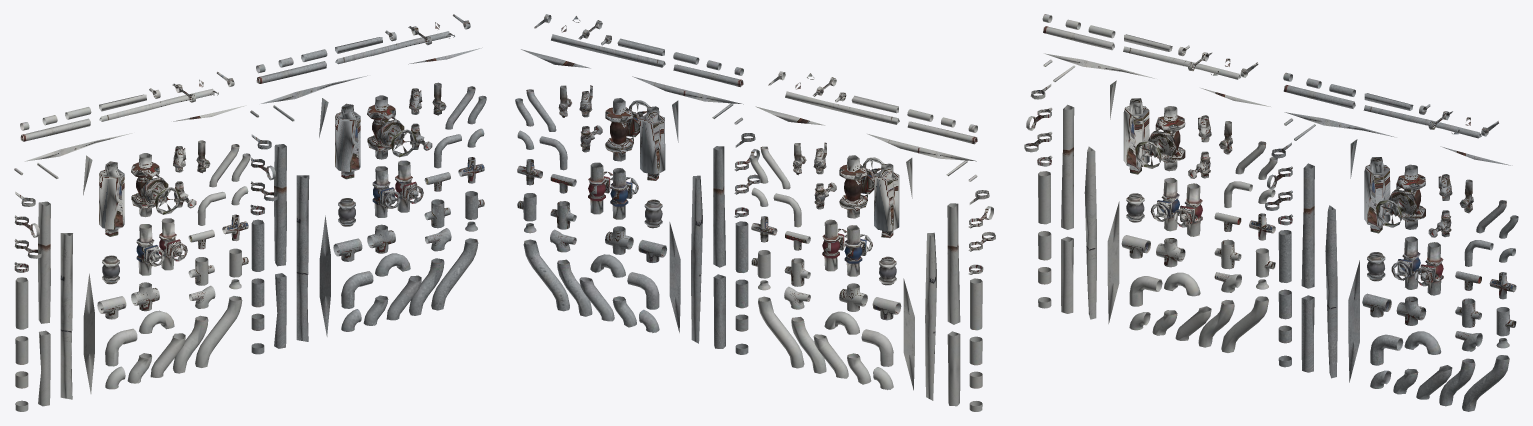
Rendered from modular_pipes.glb.
3 views of the same model, side by side, from view 1: azimuth 30°, elevation 25°; view 2: azimuth 150°, elevation 25°; view 3: azimuth 330°, elevation 25° (orthographic). The views are drawn at different scales.
Parts seen in each view (by area): view 1: pipe_140cm_metal, pipe_140cm_pvc, pipe_valve_large_metal, pipe_valve_large_pvc, pipe_chamber_large_metal, pipe_chamber_large_pvc, pipe_100cm_pvc, pipe_100cm_metal, pipe_200cm_metal, pipe_200cm_pvc, pipe_s_curve_4_metal, pipe_s_curve_4_pvc (+32 smaller); view 2: pipe_140cm_metal, pipe_140cm_pvc, pipe_chamber_large_pvc, pipe_valve_large_pvc, pipe_chamber_large_metal, pipe_valve_large_metal, pipe_100cm_pvc, pipe_100cm_metal, pipe_200cm_metal, pipe_s_curve_4_metal, pipe_200cm_pvc, pipe_s_curve_4_pvc (+32 smaller); view 3: pipe_valve_large_pvc, pipe_valve_large_metal, pipe_140cm_metal, pipe_140cm_pvc, pipe_chamber_large_pvc, pipe_chamber_large_metal, pipe_100cm_metal, pipe_100cm_pvc, pipe_200cm_pvc, pipe_200cm_metal, pipe_60cm_metal, pipe_60cm_pvc (+31 smaller).
Boxes of the visible parts, box(x1,y1,x2,y2) form: pipe_140cm_metal: box(296, 175, 309, 341); pipe_140cm_pvc: box(60, 233, 72, 399); pipe_valve_large_metal: box(367, 95, 416, 159); pipe_valve_large_pvc: box(131, 153, 180, 217); pipe_chamber_large_metal: box(335, 103, 360, 179); pipe_chamber_large_pvc: box(99, 161, 124, 236); pipe_100cm_pvc: box(38, 201, 50, 323); pipe_100cm_metal: box(274, 144, 286, 266); pipe_200cm_metal: box(319, 98, 330, 336); pipe_200cm_pvc: box(83, 155, 94, 393); pipe_s_curve_4_metal: box(431, 238, 478, 310); pipe_s_curve_4_pvc: box(195, 296, 242, 367); pipe_140cm_metal: box(691, 175, 702, 343); pipe_140cm_pvc: box(925, 232, 936, 400); pipe_chamber_large_pvc: box(874, 163, 899, 238); pipe_valve_large_pvc: box(839, 155, 884, 218); pipe_chamber_large_metal: box(640, 106, 665, 180); pipe_valve_large_metal: box(605, 98, 650, 161); pipe_100cm_pvc: box(947, 203, 960, 324); pipe_100cm_metal: box(713, 146, 725, 267); pipe_200cm_metal: box(669, 100, 680, 332); pipe_s_curve_4_metal: box(523, 239, 569, 311); pipe_200cm_pvc: box(903, 158, 914, 390); pipe_s_curve_4_pvc: box(758, 296, 804, 368); pipe_valve_large_pvc: box(1135, 106, 1185, 171); pipe_valve_large_metal: box(1376, 164, 1425, 229); pipe_140cm_metal: box(1325, 205, 1337, 378); pipe_140cm_pvc: box(1084, 146, 1096, 319); pipe_chamber_large_pvc: box(1123, 98, 1149, 174); pipe_chamber_large_metal: box(1364, 157, 1390, 233); pipe_100cm_metal: box(1301, 163, 1314, 288); pipe_100cm_pvc: box(1061, 104, 1074, 229); pipe_200cm_pvc: box(1107, 80, 1119, 323); pipe_200cm_metal: box(1348, 139, 1359, 382); pipe_60cm_metal: box(1301, 295, 1314, 372); pipe_60cm_pvc: box(1061, 236, 1073, 313).
Size of the model in its own units: 4.19 by 2.43 by 0.4568.
Materials: 2 (2 with a texture image).
